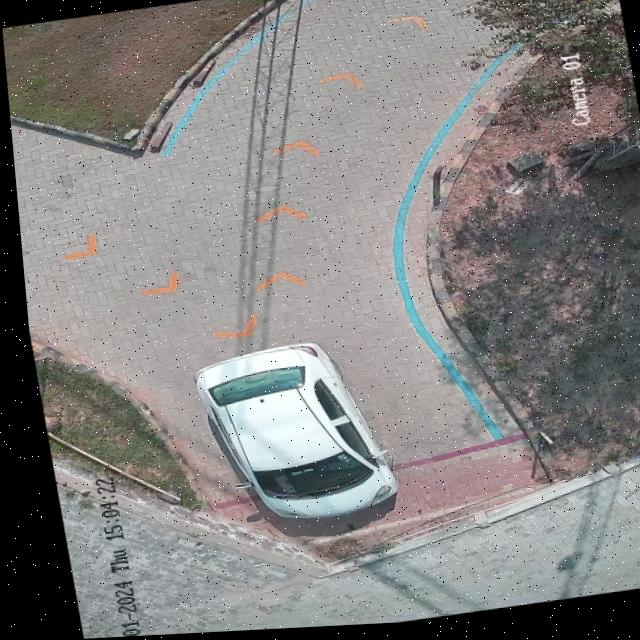car: (189, 343, 389, 519)
